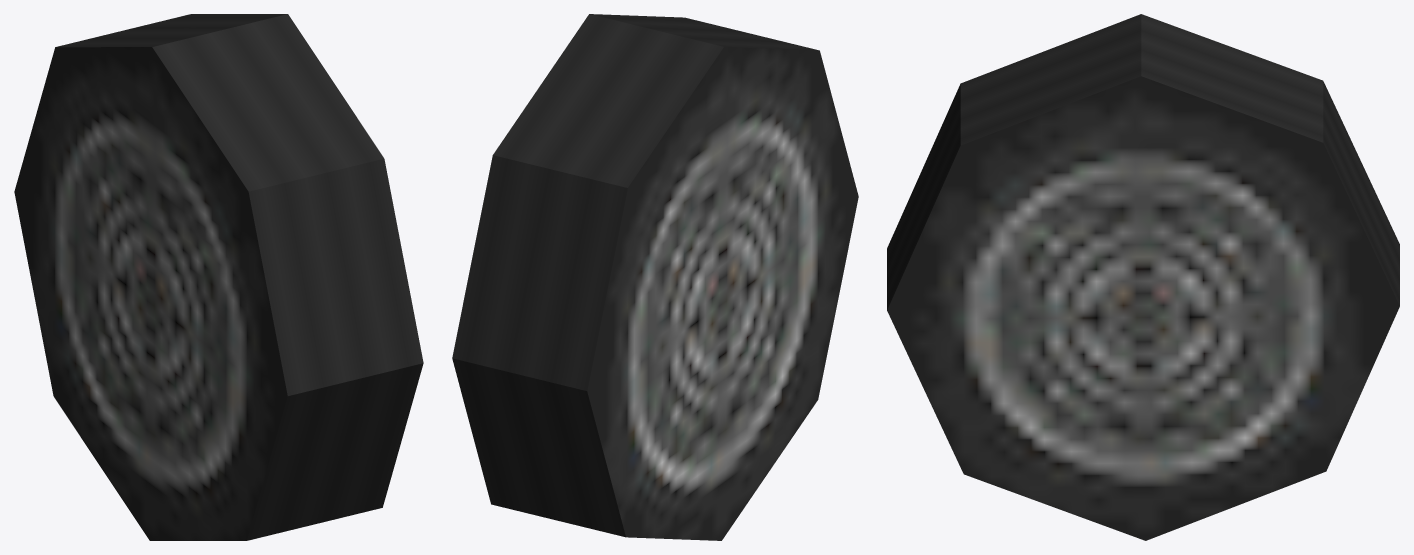
File: wheel_front_right.obj
3 views of the same model, side by side, from view 1: azimuth 30°, elevation 25°; view 2: azimuth 150°, elevation 25°; view 3: azimuth 270°, elevation 25° (orthographic). The views are drawn at different scales.
Visible parts, largest first — view 1: wheel_front_right; view 2: wheel_front_right; view 3: wheel_front_right.
Part boxes in pixels (x1,y1,x2,y2): wheel_front_right: (14,14,423,540); wheel_front_right: (452,14,858,540); wheel_front_right: (887,14,1399,540).
Bounding box in the file's own units: 0.2657 × 0.926 × 0.926.
1 material, 1 textured.
